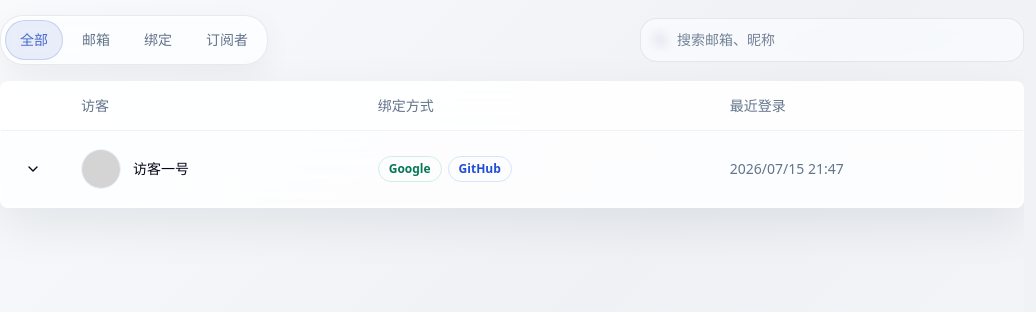
VisitorsUsersPanel › keeps the main row to visitor, binding method, and recent login
Expected: the column heading "访客" is shown, [65,82,362,130]
Expected: the column heading "绑定方式" is shown, [362,82,714,130]
Step 1. Click the button named "展开" → (33, 168), box [17,146,49,190]
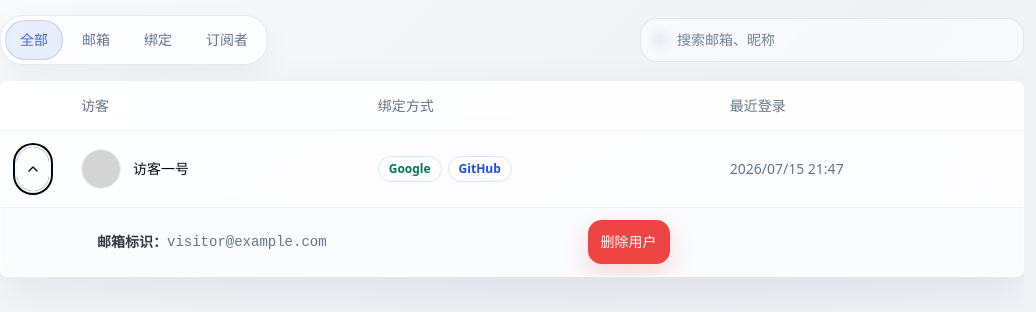
Now the text "visitor@example.com" is shown, box [167,234,327,250]
